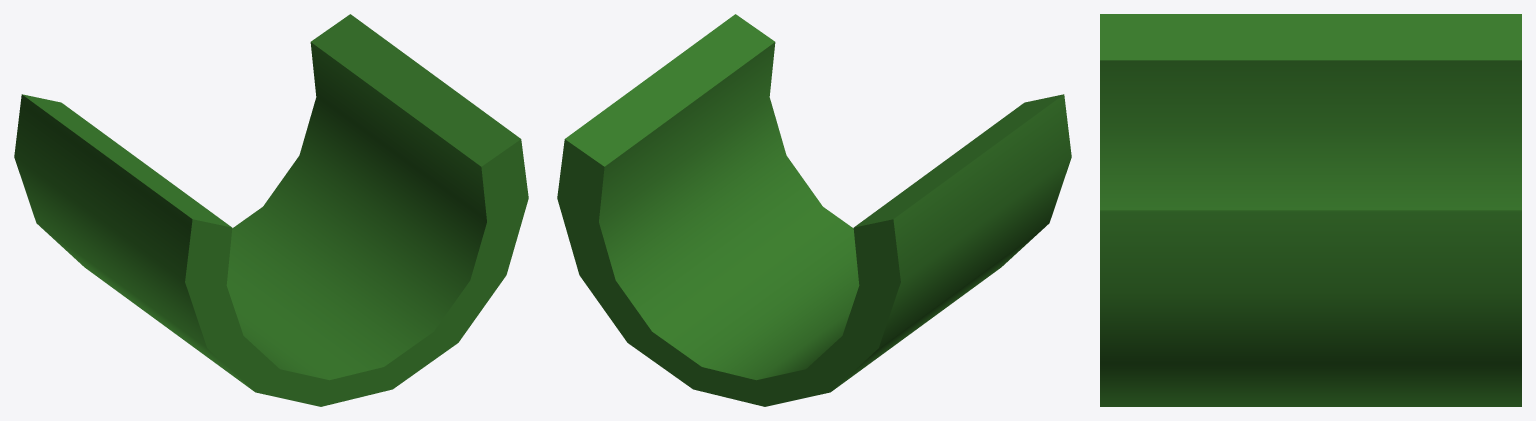
File: SkeeBallCup.fbx
The picture shows the model from 3 angles, left to right: view 1: azimuth 30°, elevation 25°; view 2: azimuth 150°, elevation 25°; view 3: azimuth 270°, elevation 25°; orthographic projection. The views are drawn at different scales.
Parts seen in each view (by area): view 1: Circle.001; view 2: Circle.001; view 3: Circle.001.
Part boxes in pixels (left/top/right/bottom): Circle.001: left=14, top=14, right=528, bottom=406; Circle.001: left=557, top=14, right=1071, bottom=406; Circle.001: left=1100, top=14, right=1521, bottom=406.
Size of the model in its own units: 263 by 160 by 226.
